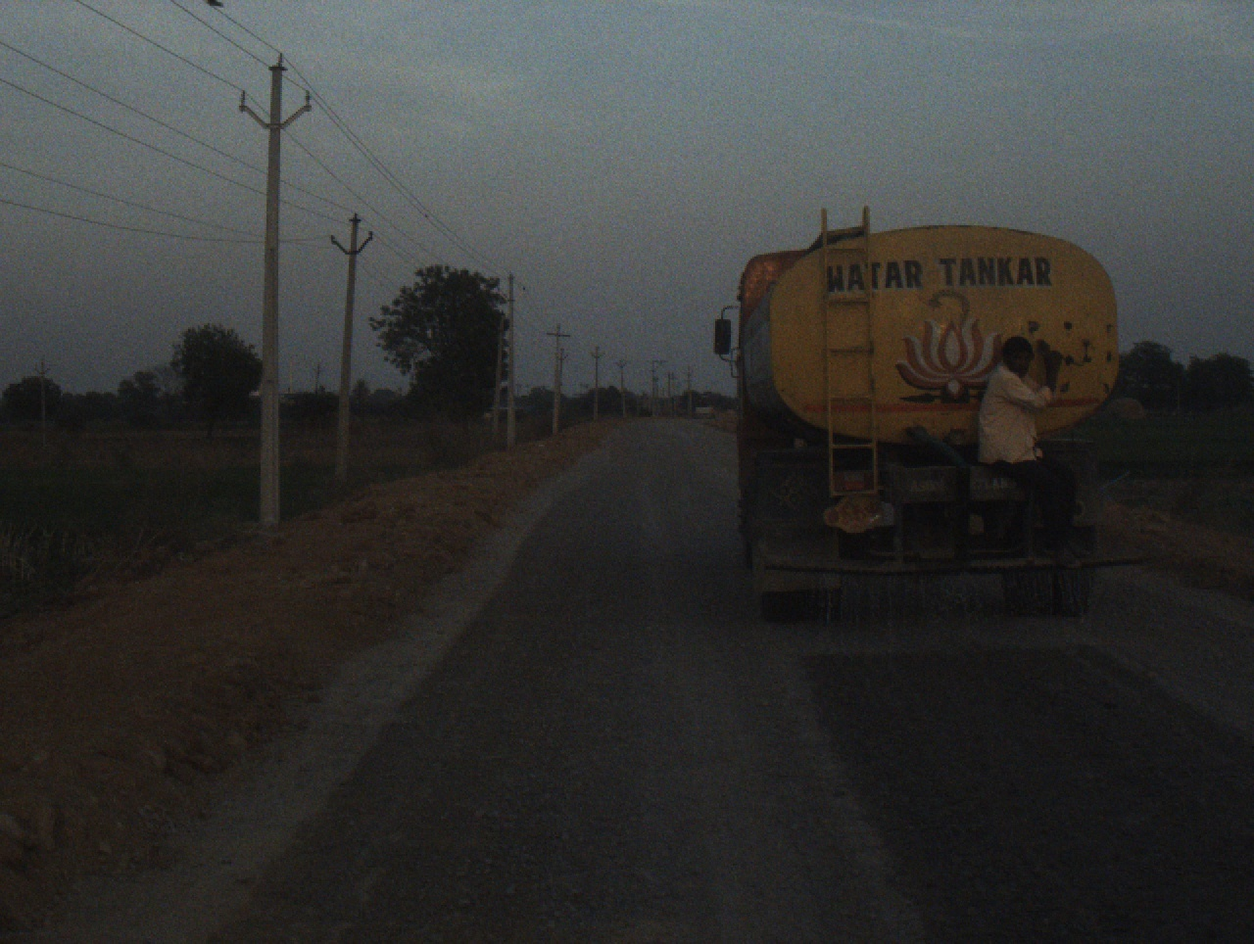rider: (977, 331, 1096, 556)
truck: (706, 204, 1144, 633)
